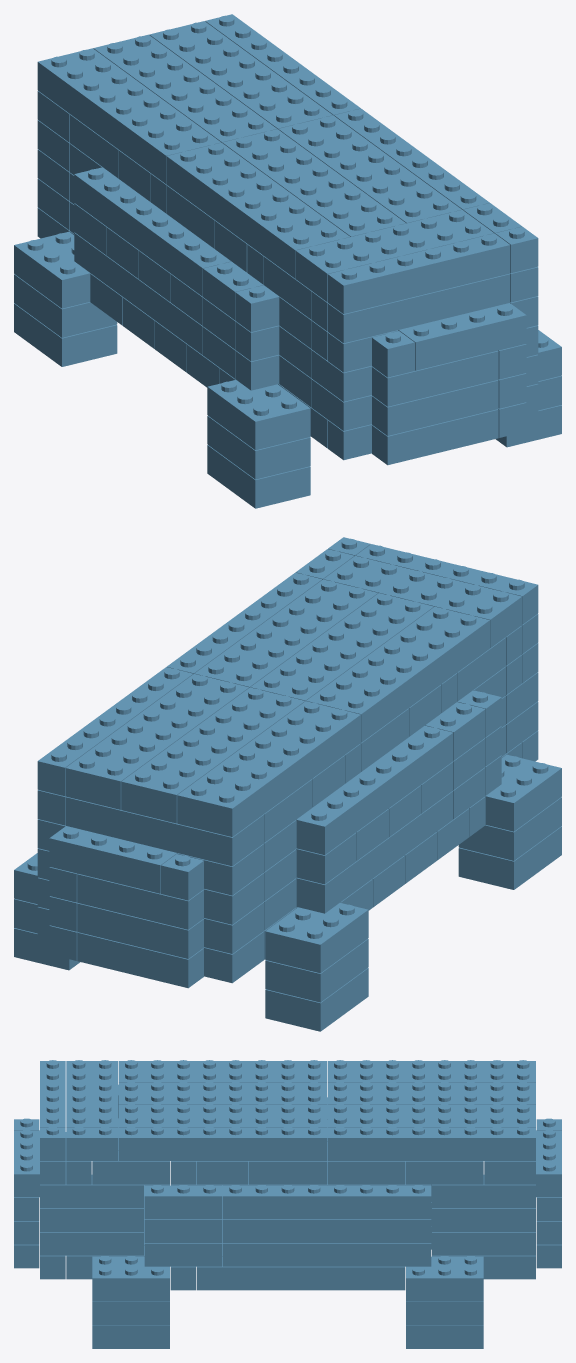
File: 112_bus_L2.glb
The picture shows the model from 3 angles, top to bottom: view 1: azimuth 30°, elevation 25°; view 2: azimuth 150°, elevation 25°; view 3: azimuth 270°, elevation 25°; orthographic projection. The views are drawn at different scales.
Bounding box in the file's own units: 10.98 × 8.13 × 20.98.
